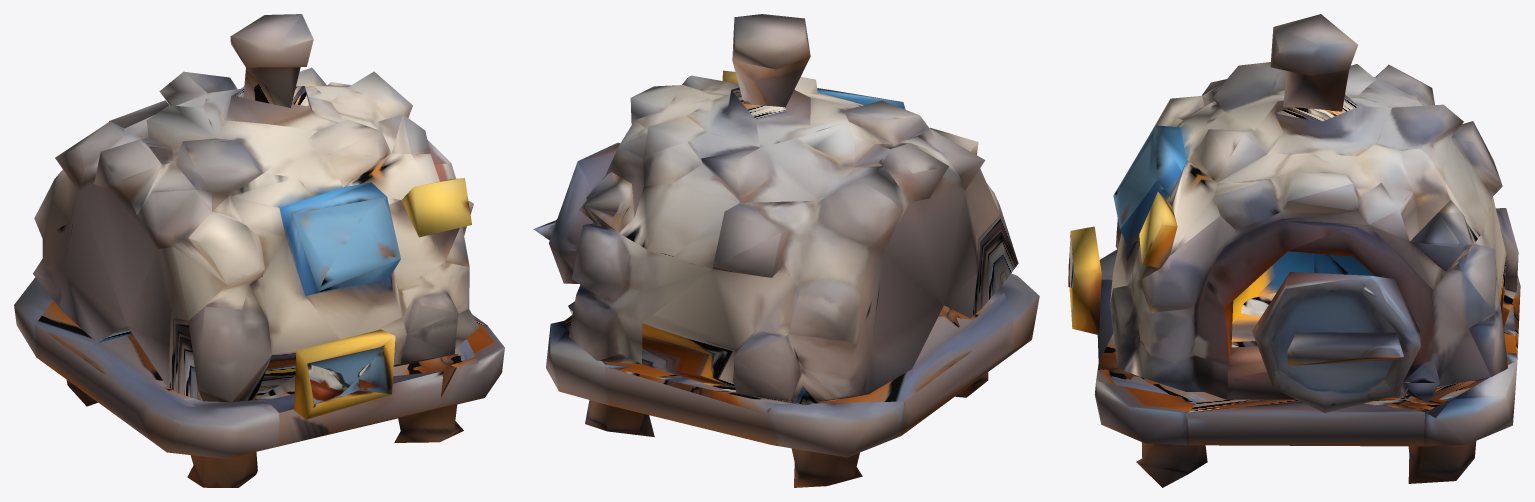
The model's file is tas_firin_lod2.glb.
3 renders of one model, left to right at view 1: azimuth 30°, elevation 25°; view 2: azimuth 150°, elevation 25°; view 3: azimuth 270°, elevation 25°, orthographic. The views are drawn at different scales.
Visible parts, largest first — view 1: tas_firin_lod2; view 2: tas_firin_lod2; view 3: tas_firin_lod2.
Part boxes in pixels (<box>): tas_firin_lod2: <box>14,14,504,487</box>; tas_firin_lod2: <box>533,14,1039,487</box>; tas_firin_lod2: <box>1068,14,1520,487</box>.
Size of the model in its own units: 1.44 by 1.4 by 1.43.
Materials: 6 (6 with a texture image).
